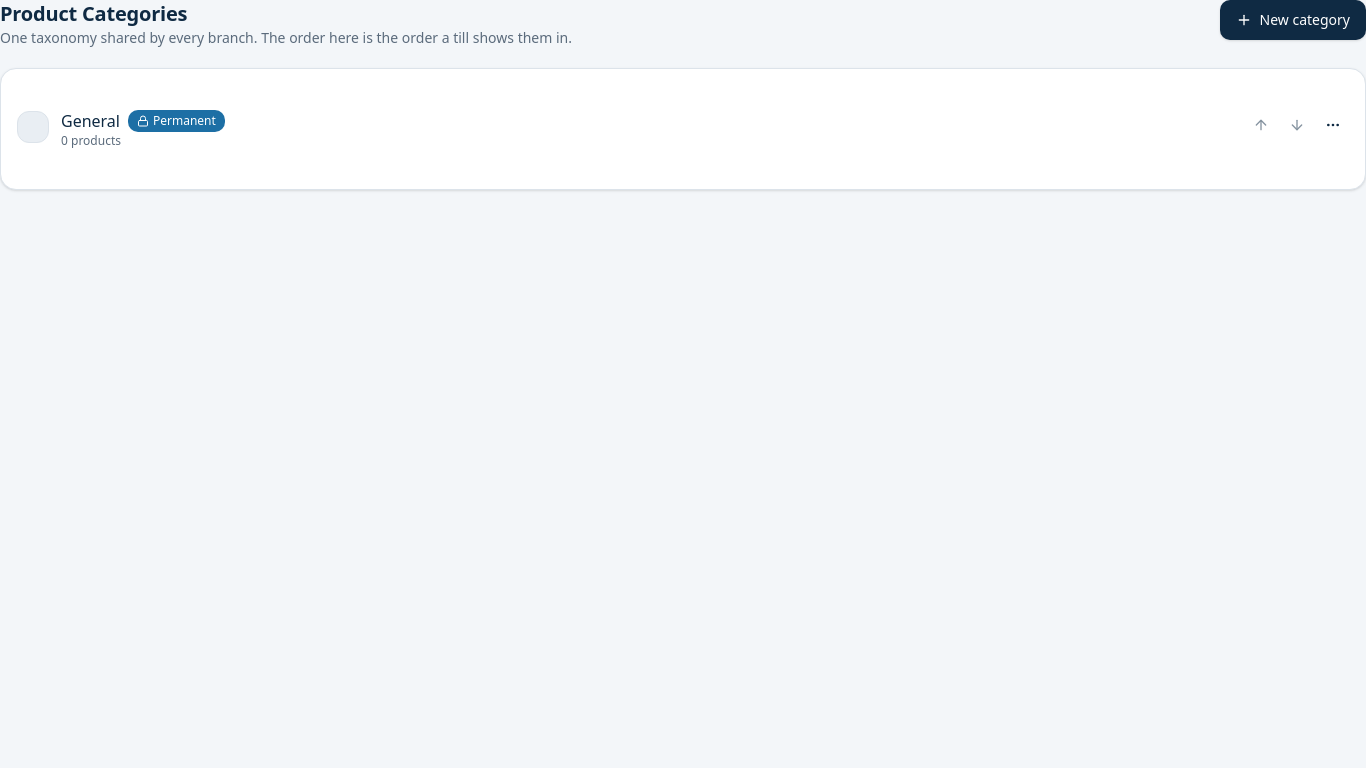
it: the category dialog › says renaming affects every branch
Click the button "New category": (1293, 20) [1220, 0, 1365, 40]
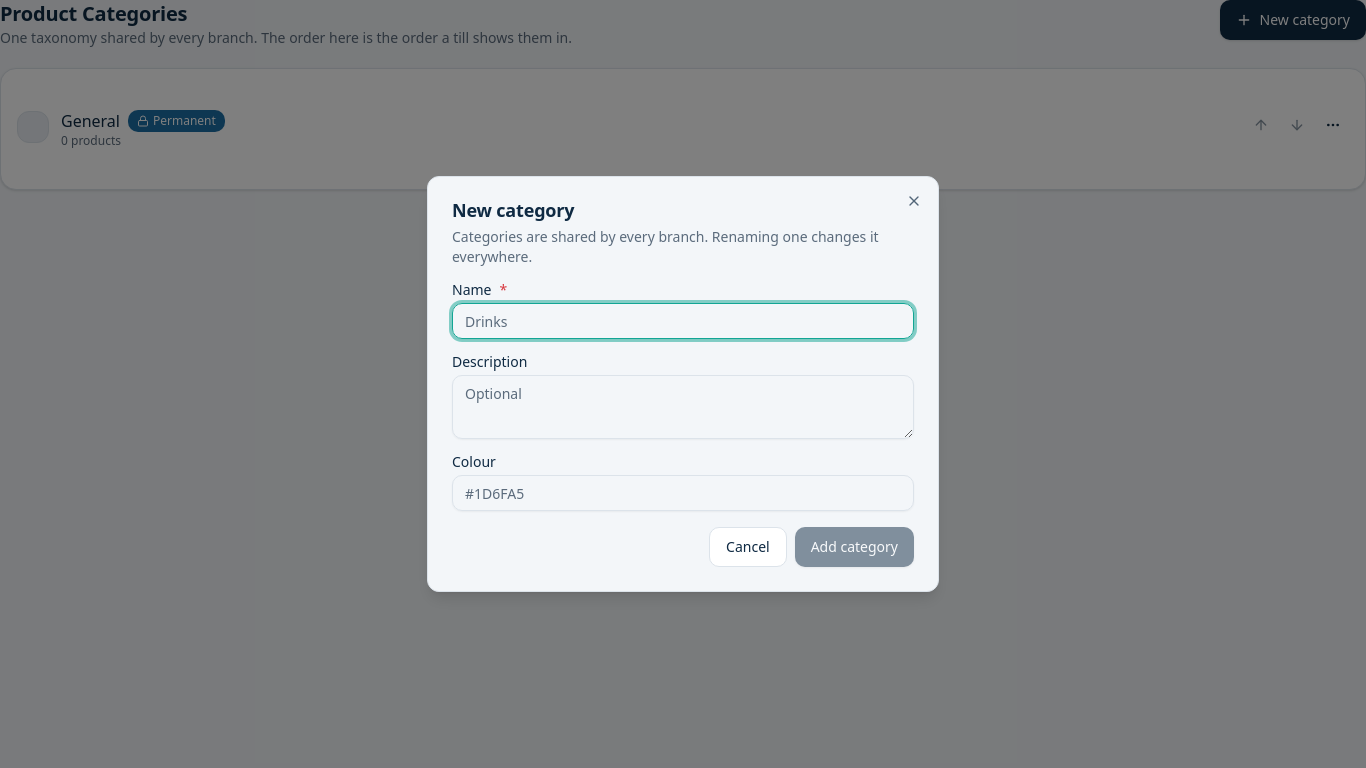
expect the text "Renaming one changes it everywhere" is shown: met, box [452, 227, 879, 266]
